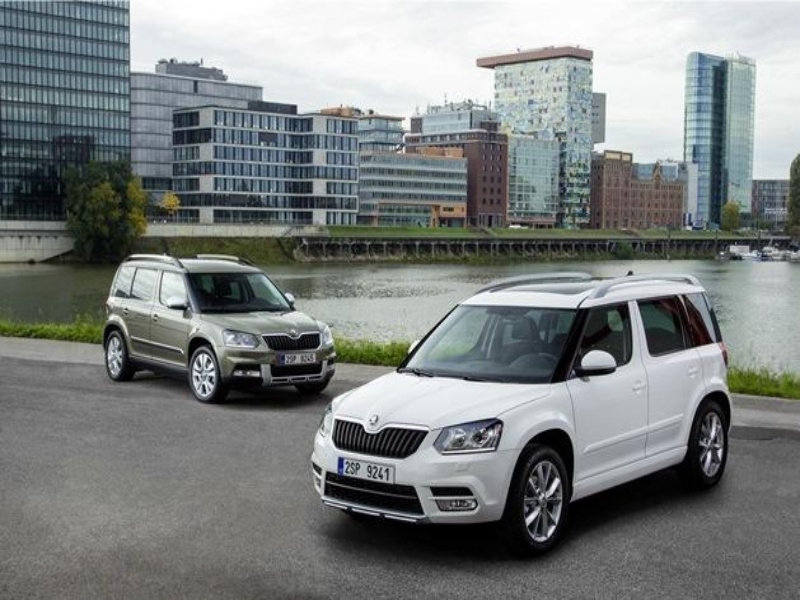car: (311, 272, 733, 557), (104, 252, 336, 402)
plate: (337, 457, 394, 485), (282, 353, 316, 363)
